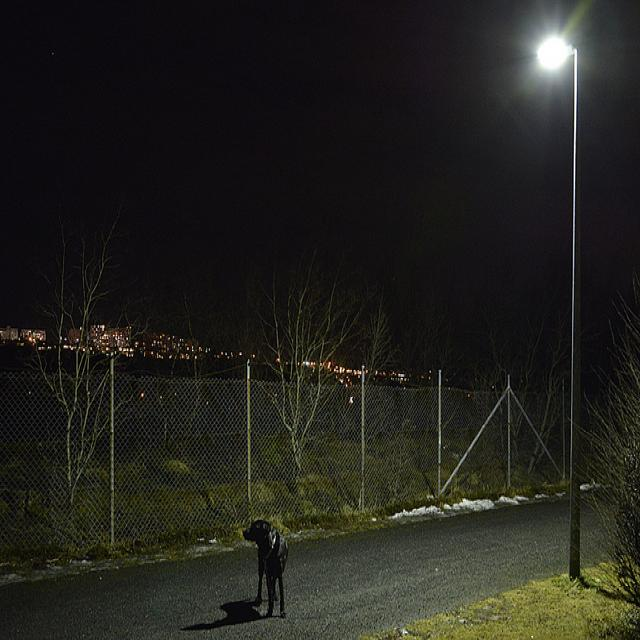Dog: (222, 516, 320, 608)
